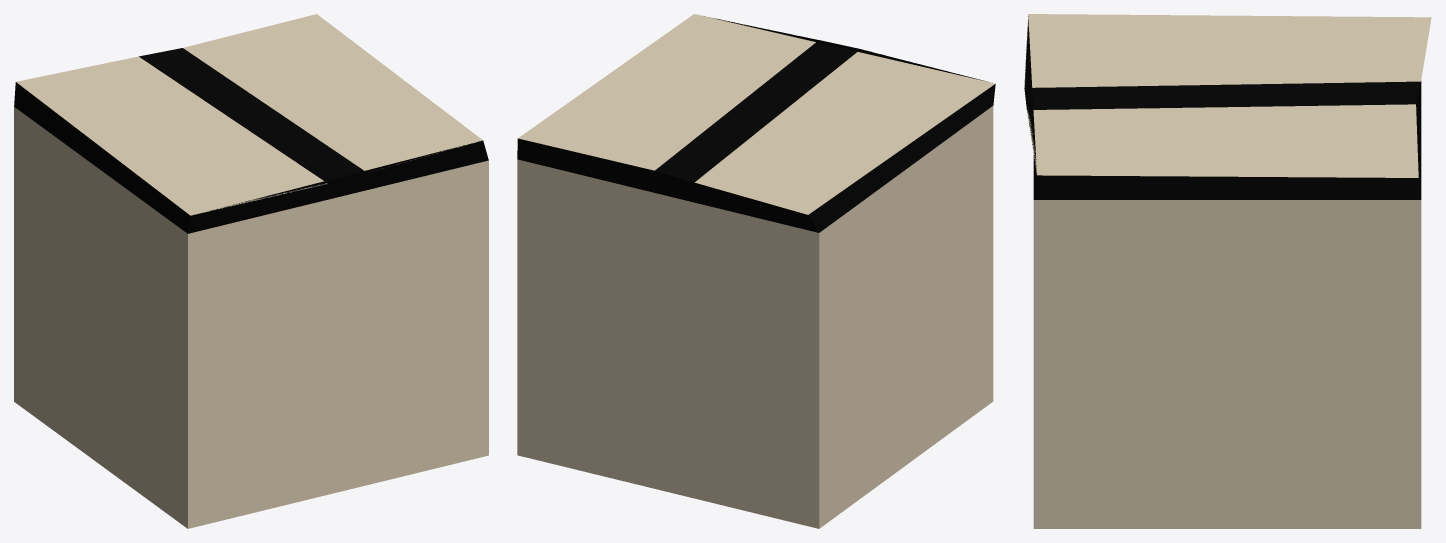
File: Carton_closed.fbx
3 views of the same model, side by side, from view 1: azimuth 30°, elevation 25°; view 2: azimuth 150°, elevation 25°; view 3: azimuth 270°, elevation 25° (orthographic). The views are drawn at different scales.
Visible parts, largest first — view 1: Cube.001; view 2: Cube.001; view 3: Cube.001.
Part boxes in pixels (x1,y1,x2,y2): Cube.001: [14, 14, 488, 528]; Cube.001: [517, 14, 995, 528]; Cube.001: [1024, 14, 1431, 528].
Size of the model in its own units: 273 by 273 by 286.
